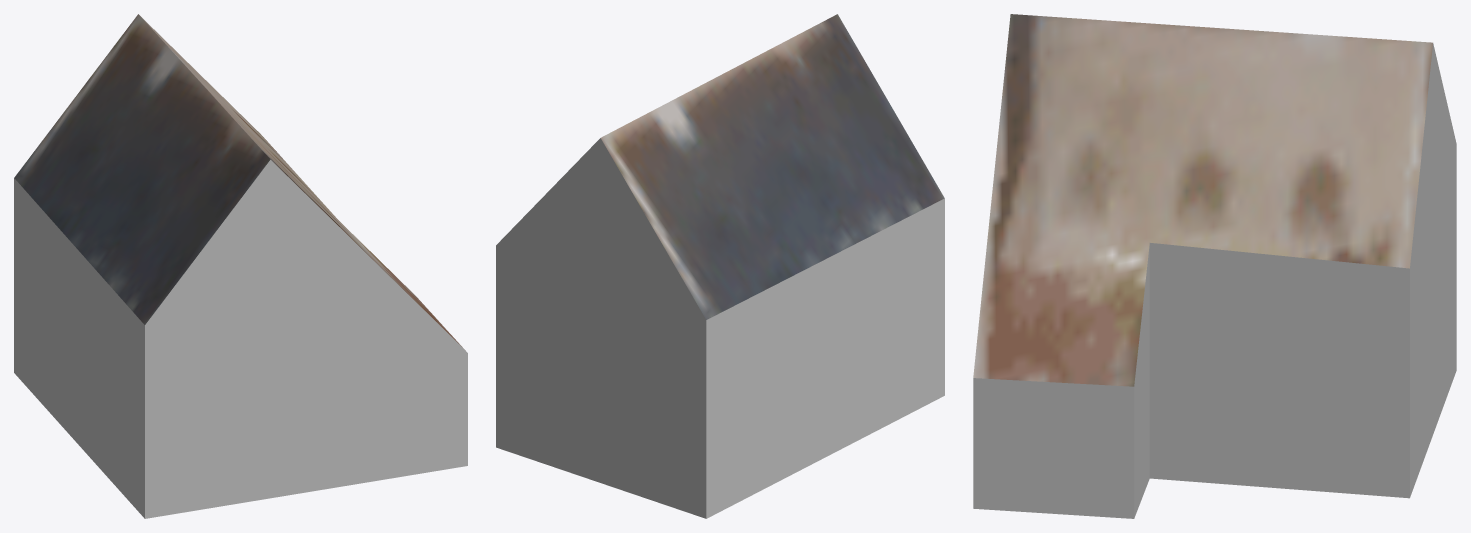
Rendered from DEBW_0010007TxbU.gltf.
3 renders of one model, left to right at view 1: azimuth 30°, elevation 25°; view 2: azimuth 150°, elevation 25°; view 3: azimuth 270°, elevation 25°, orthographic. The views are drawn at different scales.
Visible parts, largest first — view 1: Z_UP; view 2: Z_UP; view 3: Z_UP.
Part boxes in pixels (bbox=[...]): Z_UP: bbox=[14, 14, 467, 518]; Z_UP: bbox=[496, 14, 944, 518]; Z_UP: bbox=[973, 14, 1456, 518].
Bounding box in the file's own units: 12.39 × 12.75 × 14.24.
2 materials, 1 textured.
